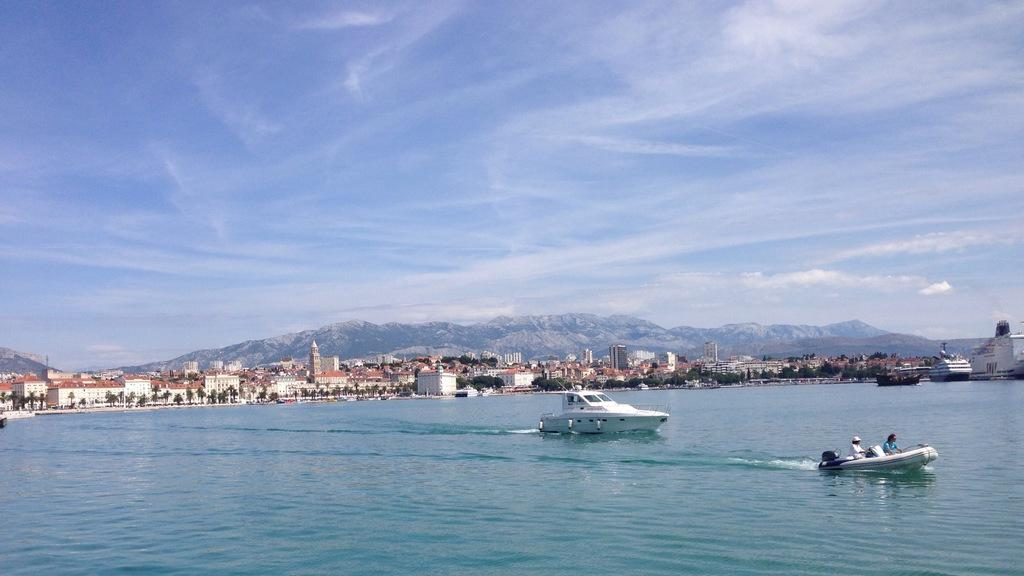PassengerShip: (968, 320, 1024, 382), (926, 348, 980, 383), (866, 364, 926, 392)
